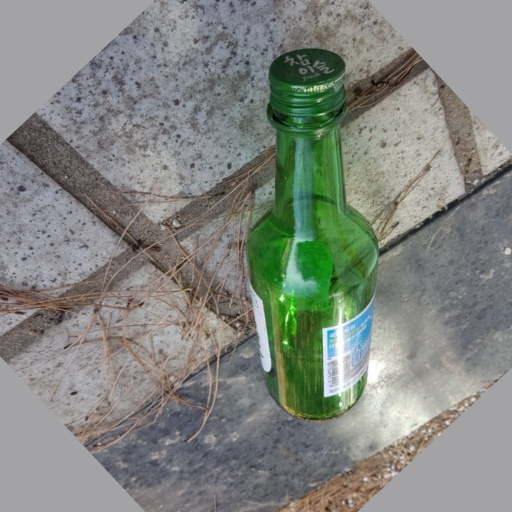Glass_0: (237, 48, 383, 424)
